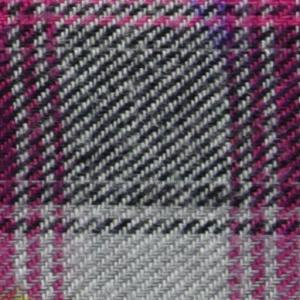Stain: (187, 1, 247, 77)
